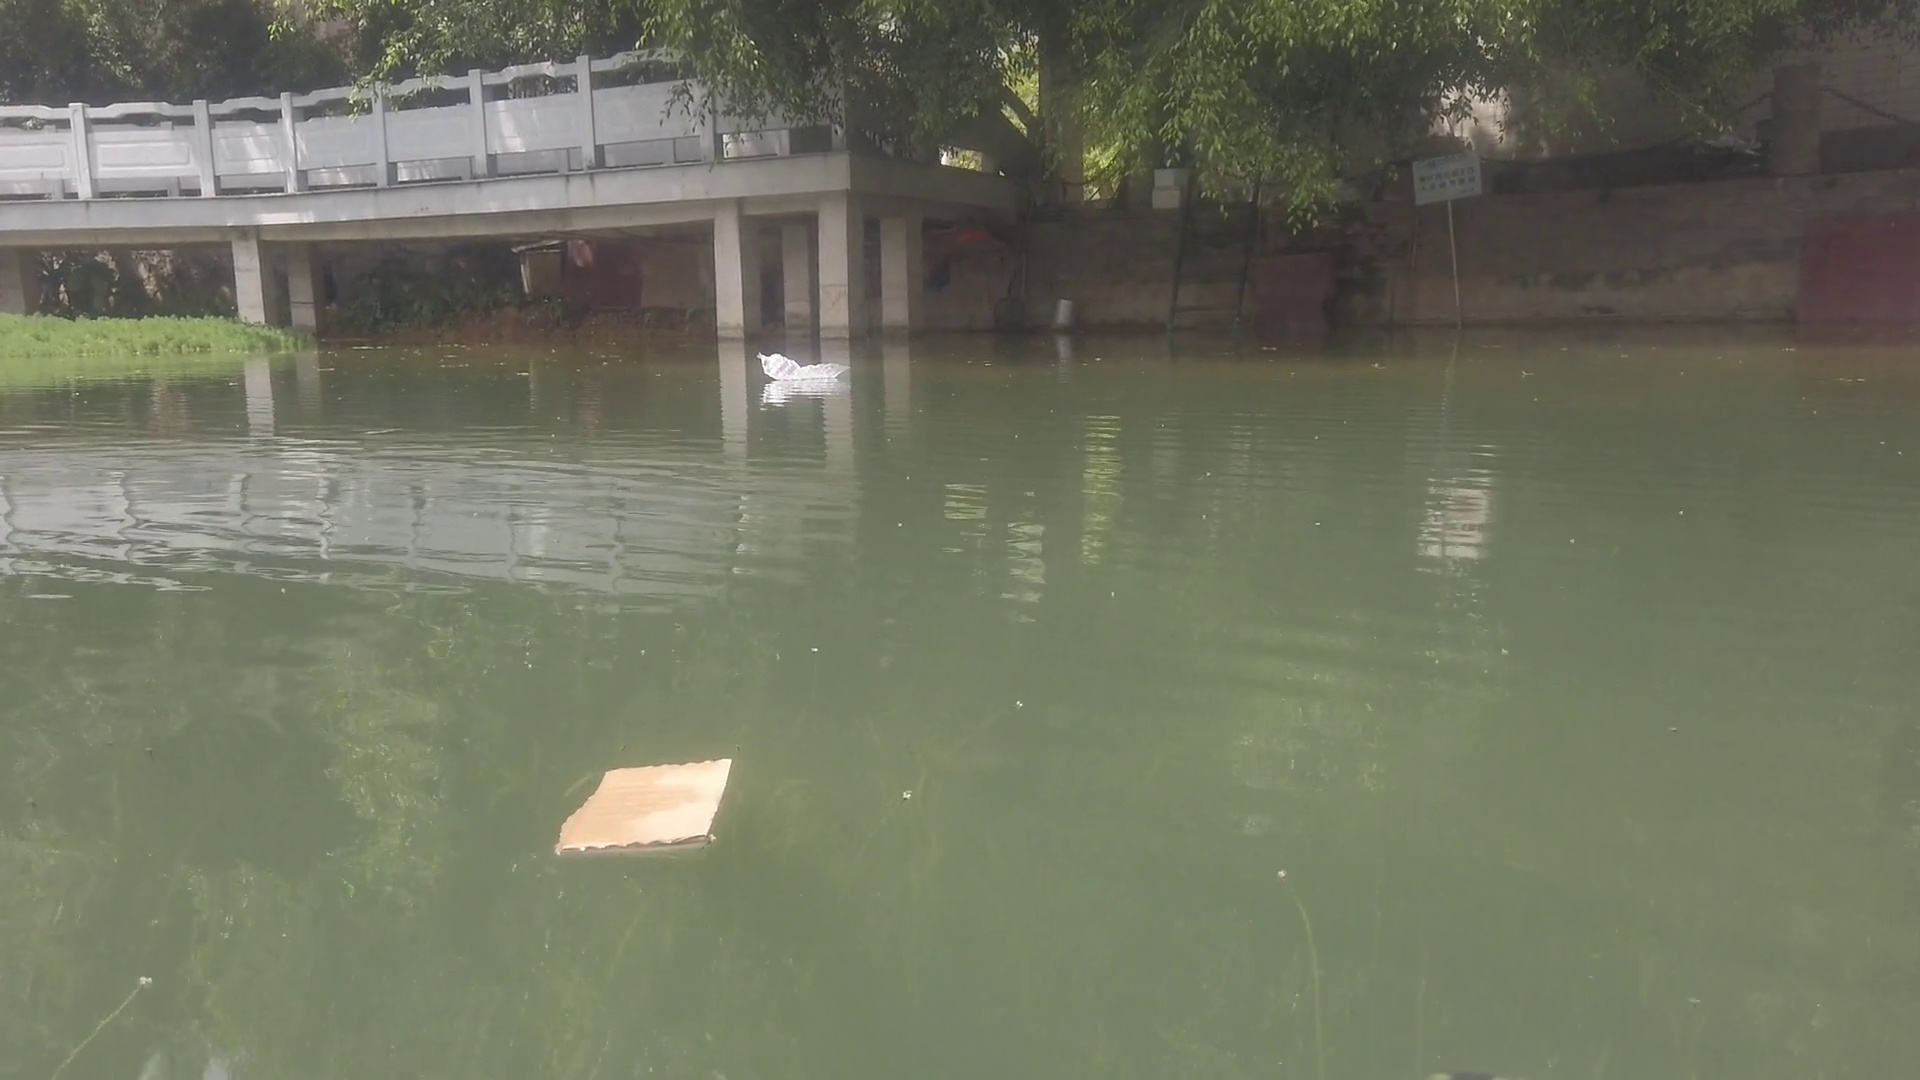paper: (547, 760, 735, 864)
plastic: (754, 351, 855, 385)
